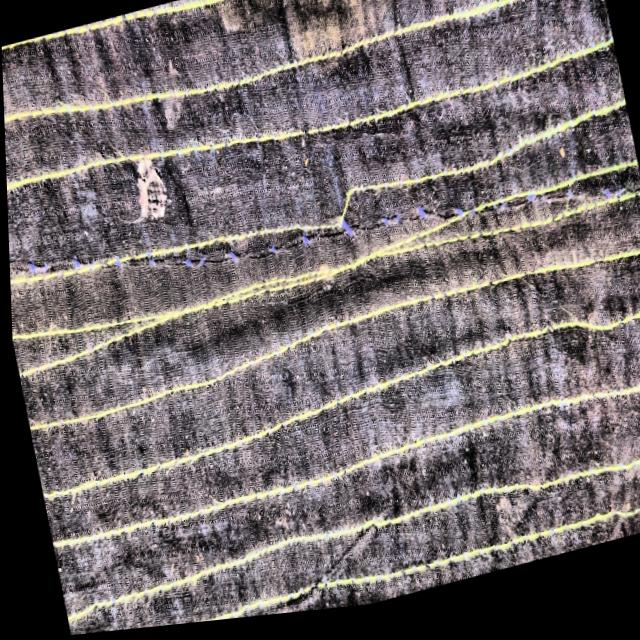Stitch: (317, 153, 513, 280), (178, 217, 307, 294), (7, 243, 120, 307), (116, 158, 177, 249)
